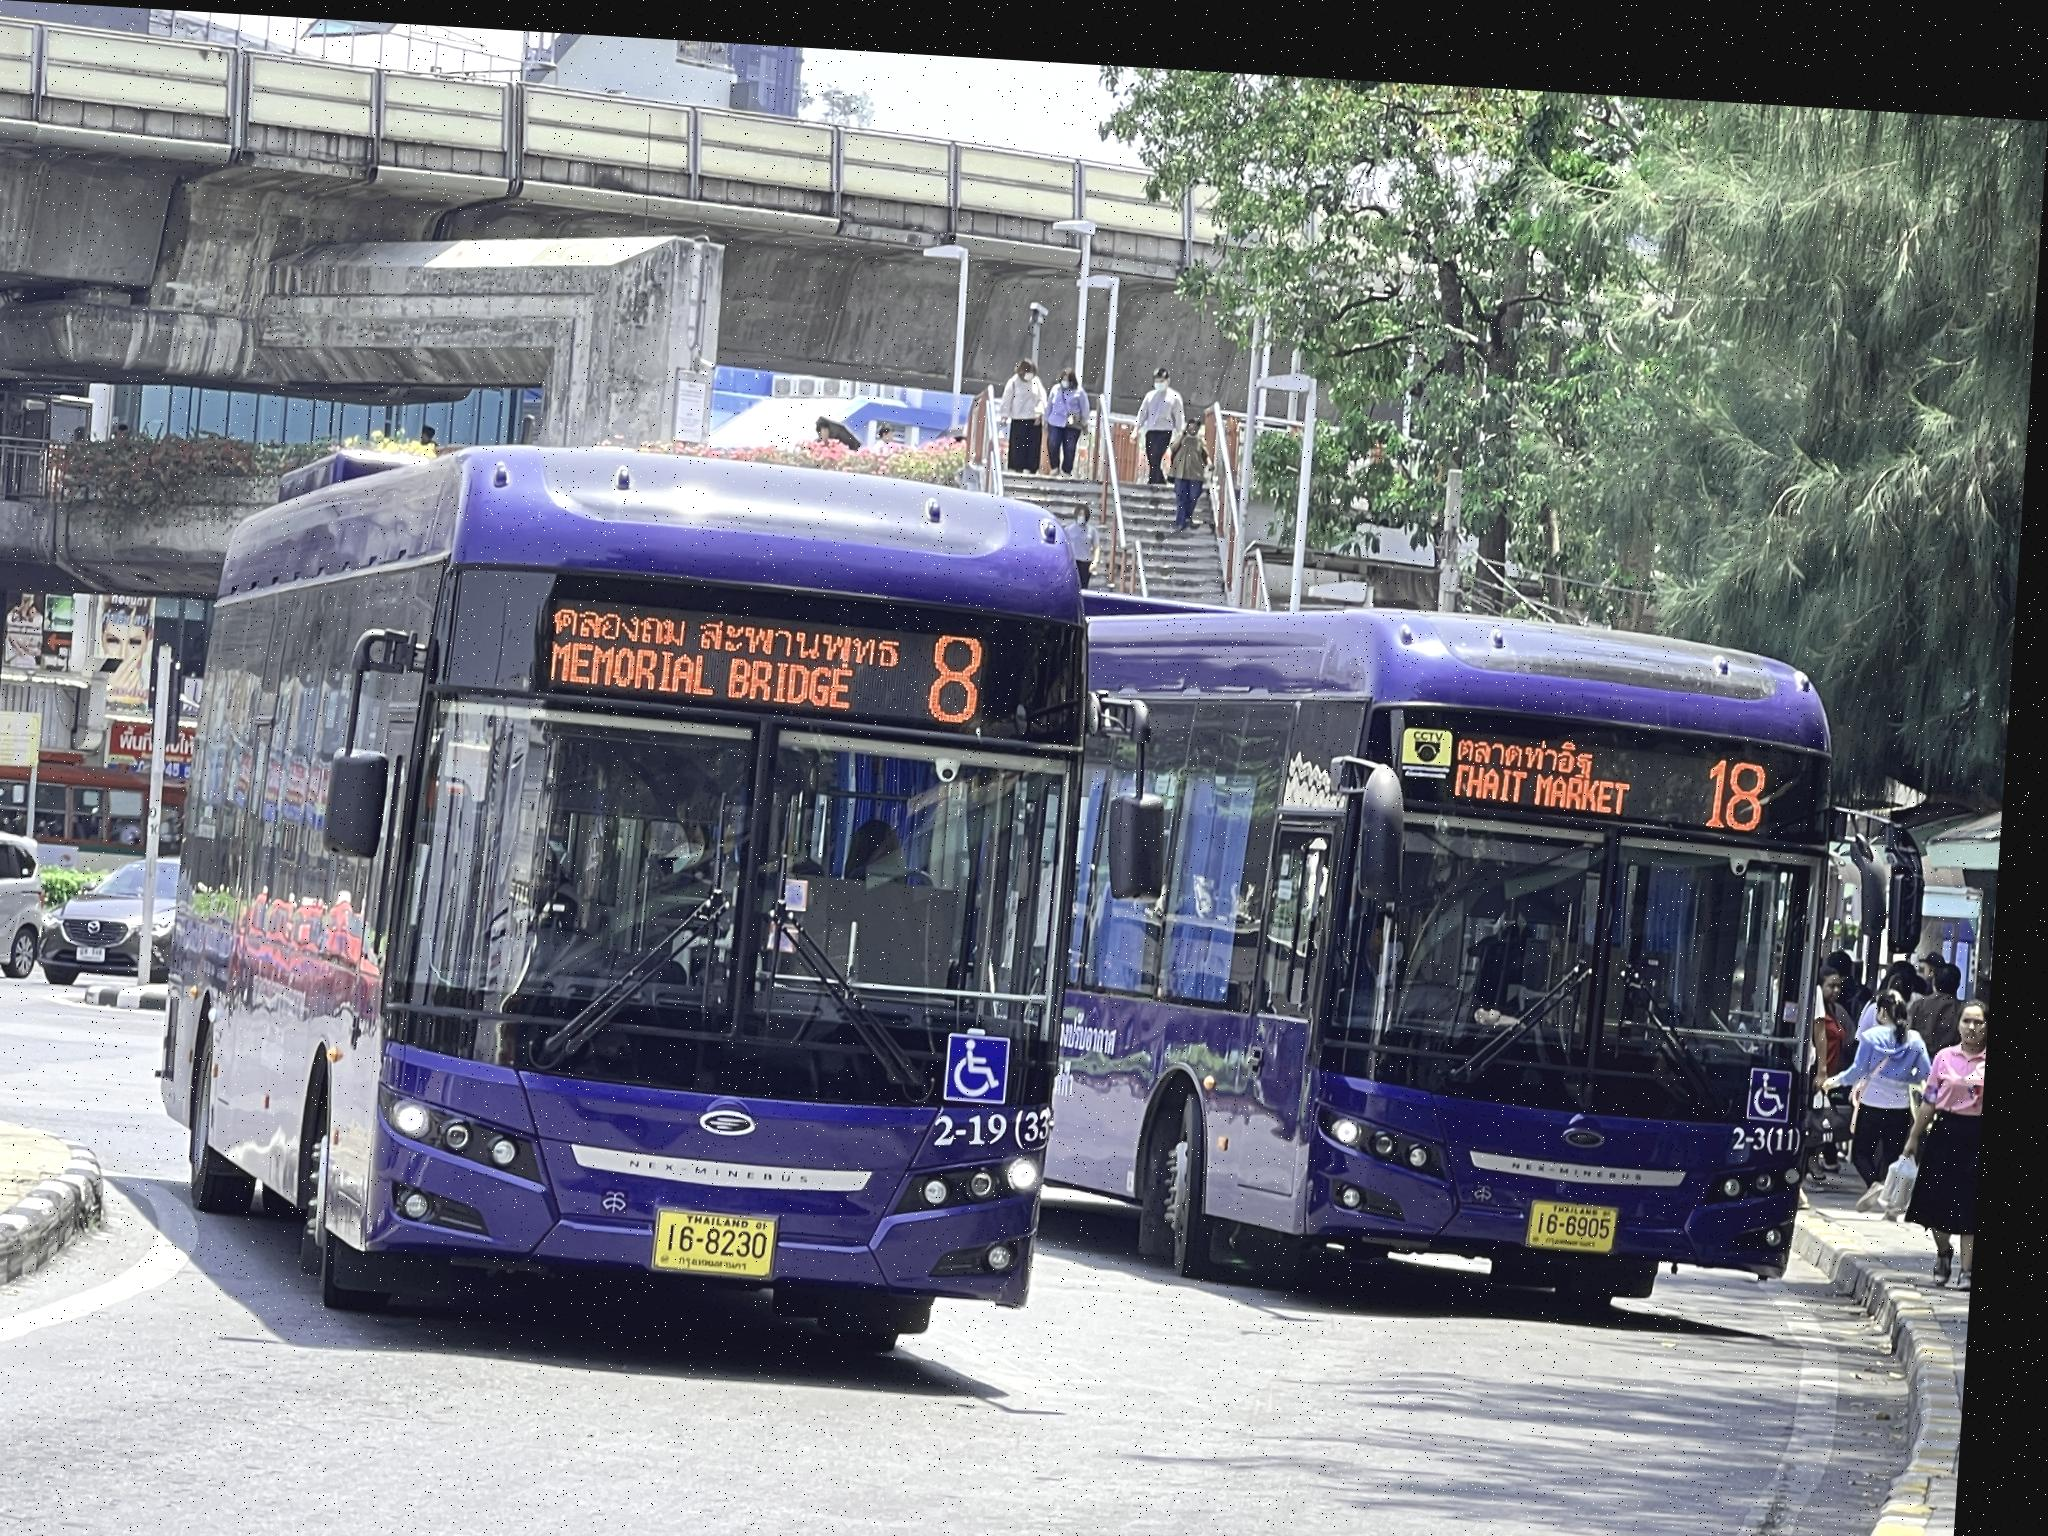Bus Line Number: (1700, 718, 1800, 826), (919, 613, 1009, 726)
Bus Side Number: (940, 1081, 1072, 1146), (1742, 1097, 1819, 1137)
Destination Sign: (537, 595, 918, 723), (1450, 702, 1661, 805)
TSB-Bus: (181, 437, 1101, 1334), (1064, 581, 1842, 1286)
